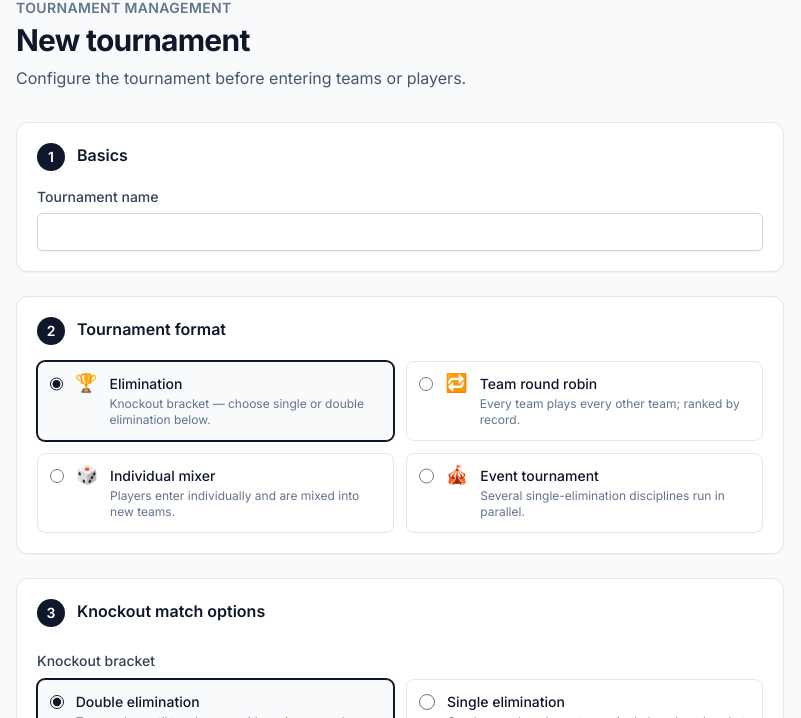
Test: NewTournamentPage › shows an inline API error
In the field labelled "Tournament name": (400, 232) [37,213,763,251], type "Summer Cup"
(page scrolled)
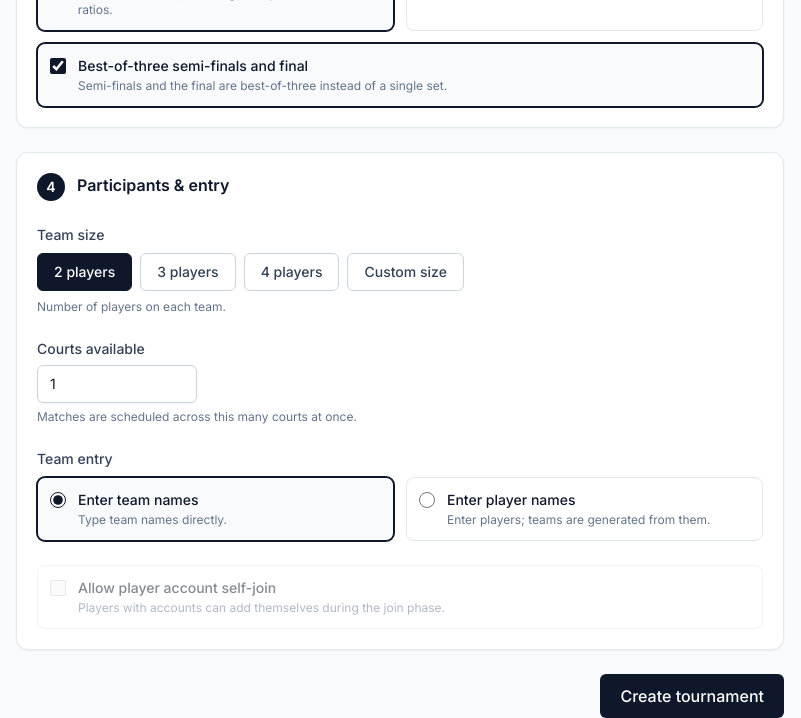
Click the button "Create tournament": (692, 696) [600,674,784,717]
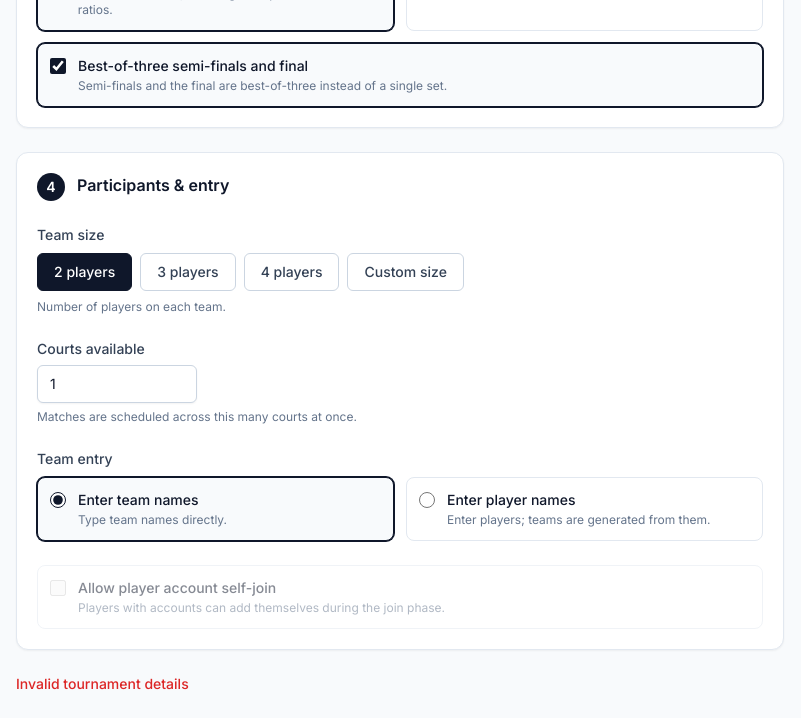
Check: the text "Invalid tournament details" is shown, box [16,675,189,692]
